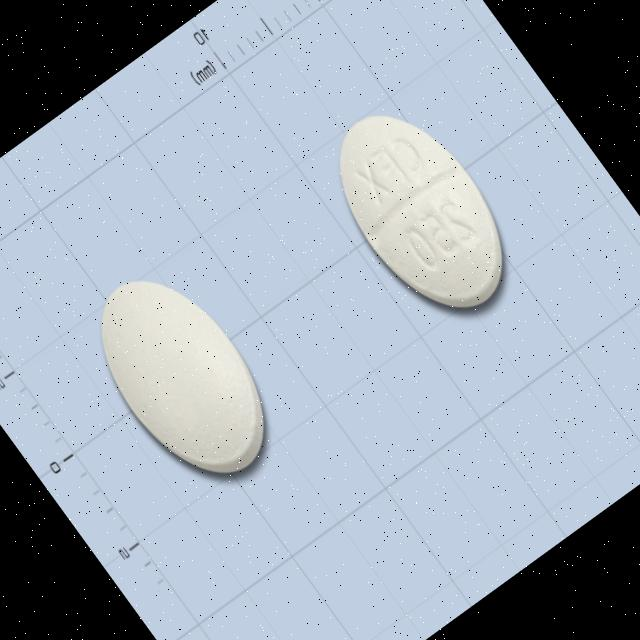Ciprofloxacin Tab- Pharma: (58, 242, 304, 510), (296, 79, 540, 347)
